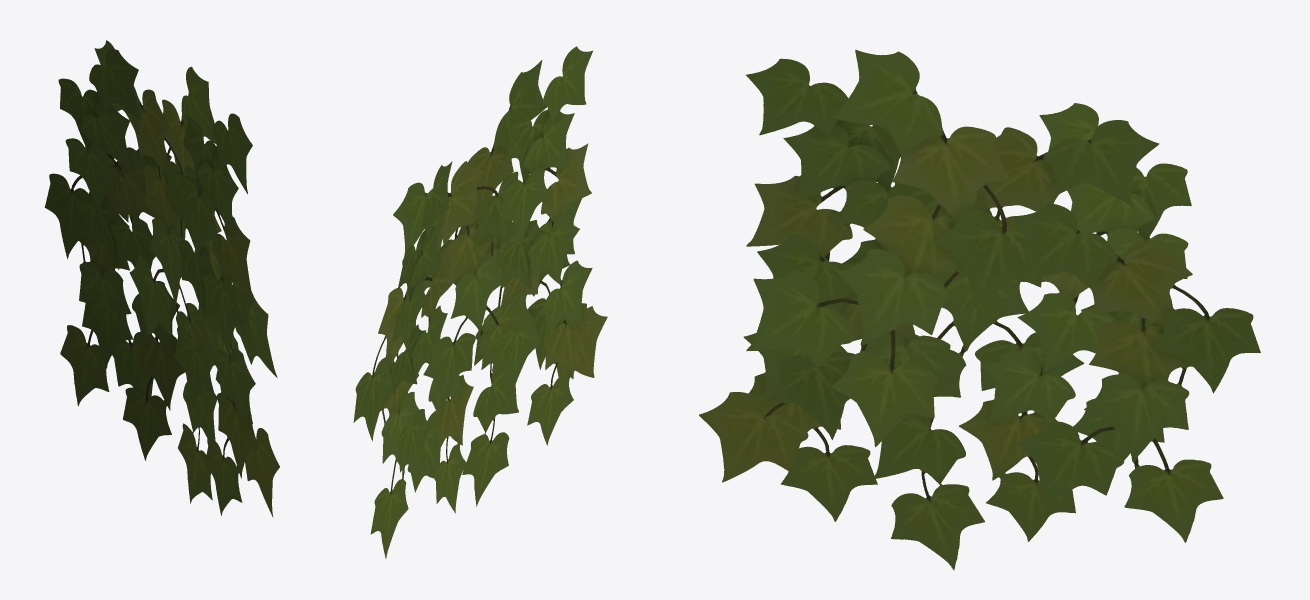
The picture shows the model from 3 angles, left to right: view 1: azimuth 30°, elevation 25°; view 2: azimuth 150°, elevation 25°; view 3: azimuth 270°, elevation 25°; orthographic projection. The views are drawn at different scales.
Parts seen in each view (by area): view 1: body0_model0_lod0_mesh0; view 2: body0_model0_lod0_mesh0; view 3: body0_model0_lod0_mesh0.
Boxes of the visible parts, x1,y1,x2,y2 form: body0_model0_lod0_mesh0: (44, 40, 279, 517); body0_model0_lod0_mesh0: (353, 46, 607, 558); body0_model0_lod0_mesh0: (699, 49, 1260, 570).
Bounding box in the file's own units: 4.55 × 43.15 × 45.42.
Materials: 1 (1 with a texture image).
